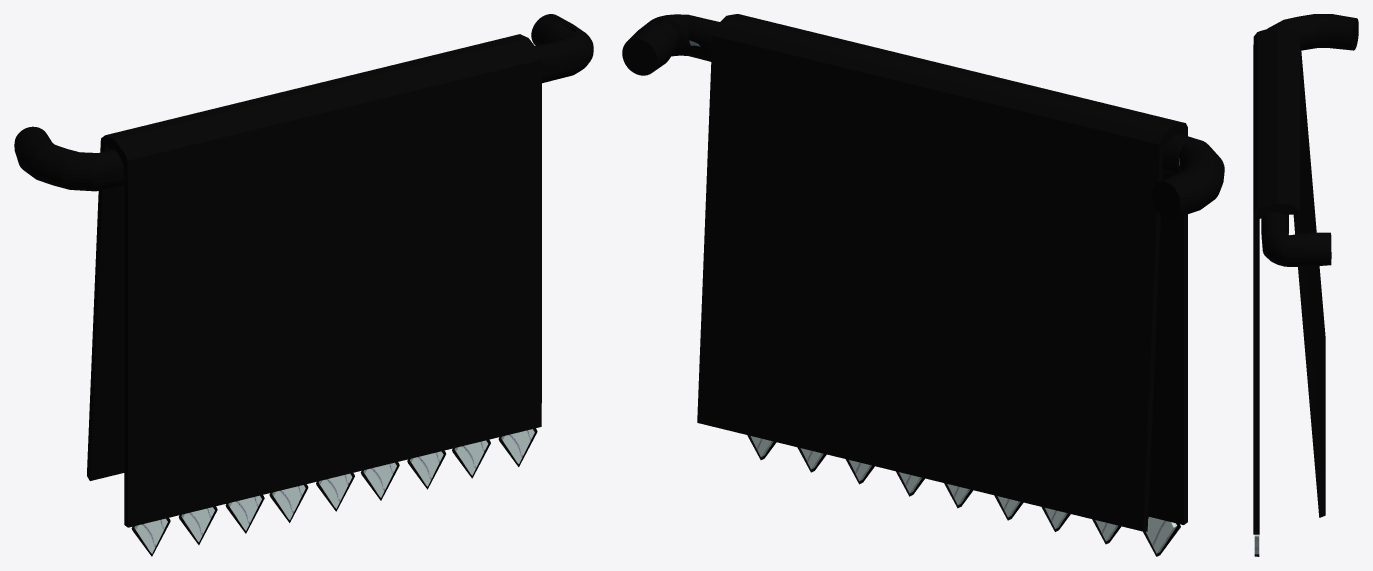
File: Toalla.obj
3 views of the same model, side by side, from view 1: azimuth 30°, elevation 25°; view 2: azimuth 150°, elevation 25°; view 3: azimuth 270°, elevation 25° (orthographic). The views are drawn at different scales.
Visible parts, largest first — view 1: Toalla, Tubo; view 2: Toalla, Tubo; view 3: Toalla, Tubo.
Part boxes in pixels (x1=…): Toalla: x1=87, y1=34, x2=541, y2=556; Tubo: x1=14, y1=14, x2=593, y2=191; Toalla: x1=697, y1=14, x2=1187, y2=556; Tubo: x1=622, y1=14, x2=1224, y2=219; Toalla: x1=1253, y1=26, x2=1325, y2=556; Tubo: x1=1261, y1=14, x2=1358, y2=266.
Size of the model in its own units: 0.9165 by 0.6638 by 0.175.
Materials: 4 (4 with a texture image).
